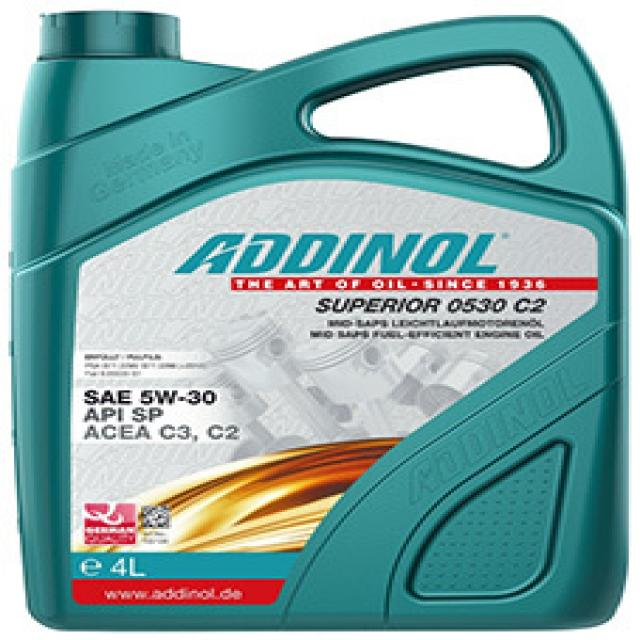motor_oil: (8, 5, 637, 635)
